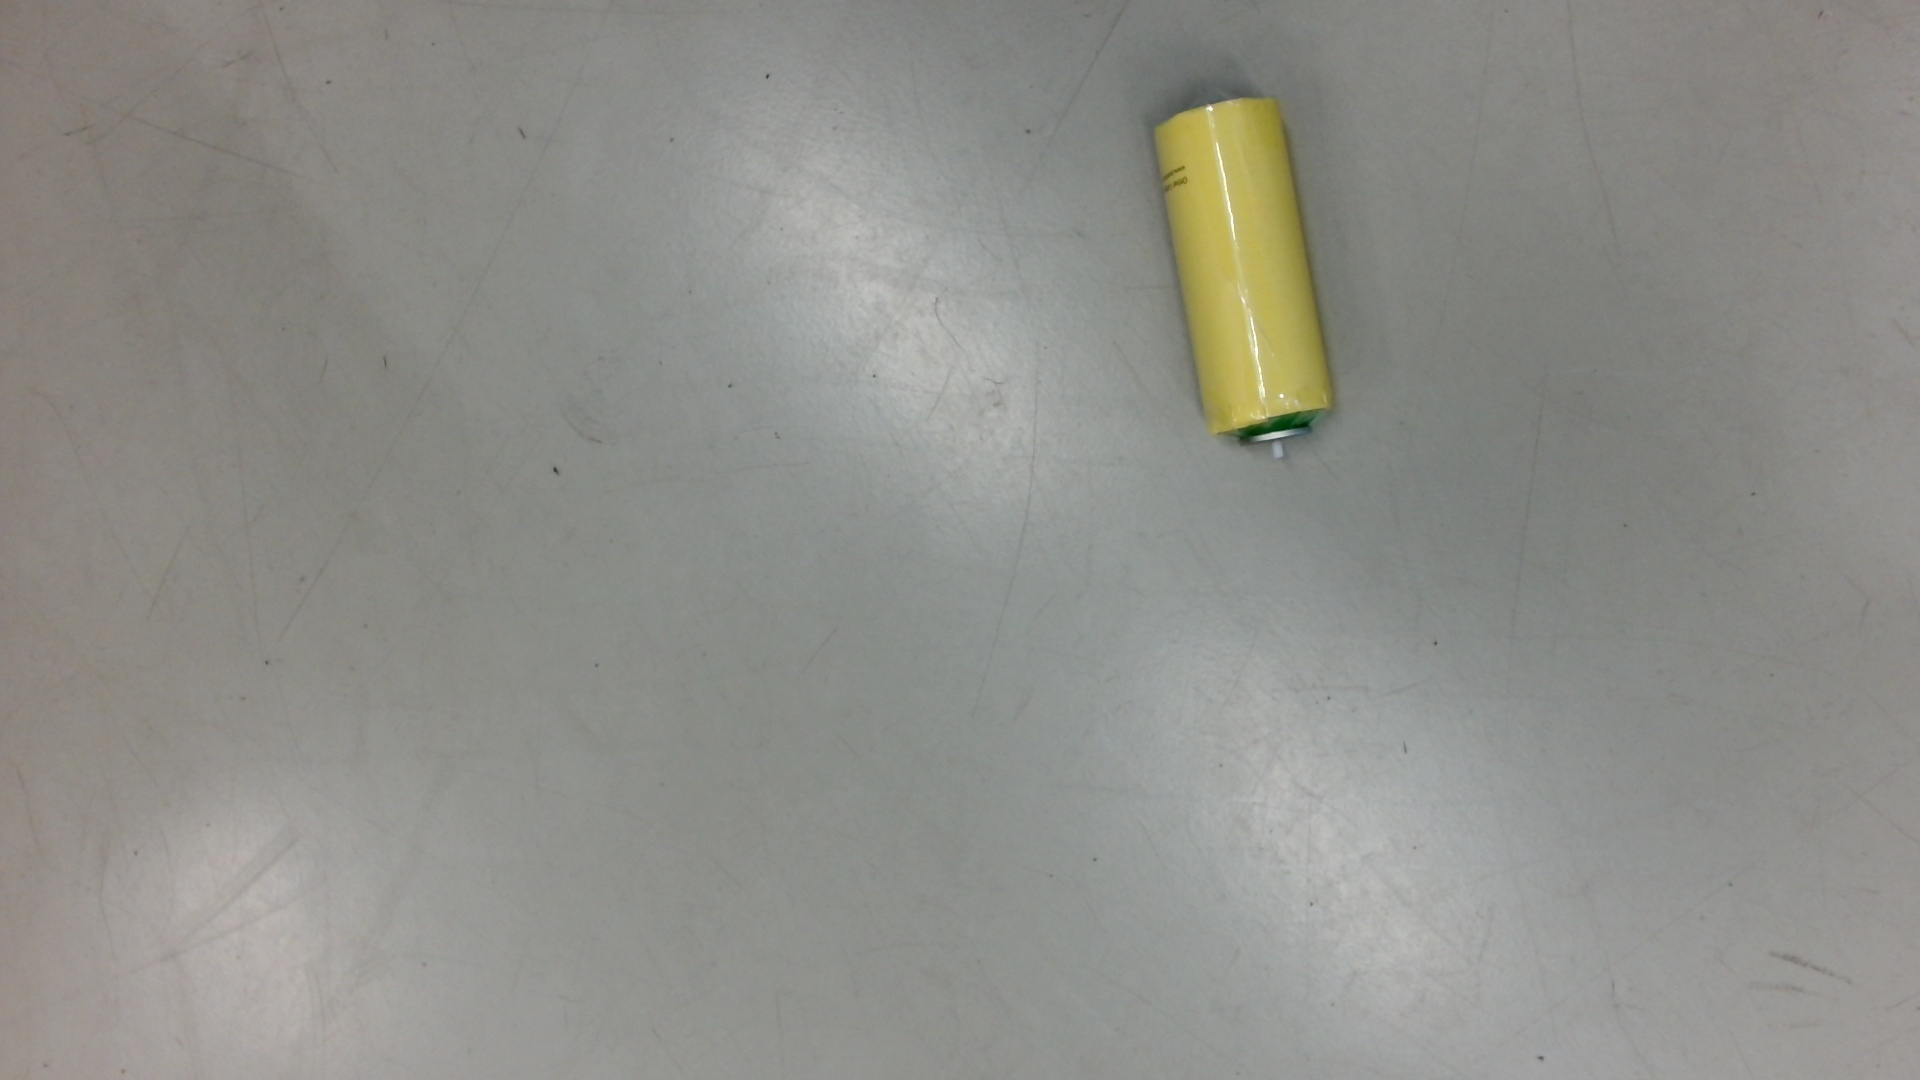Cylinder: (1141, 87, 1356, 469)
